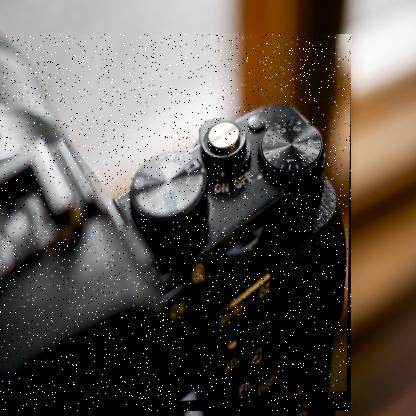Camera: (1, 35, 353, 413)
